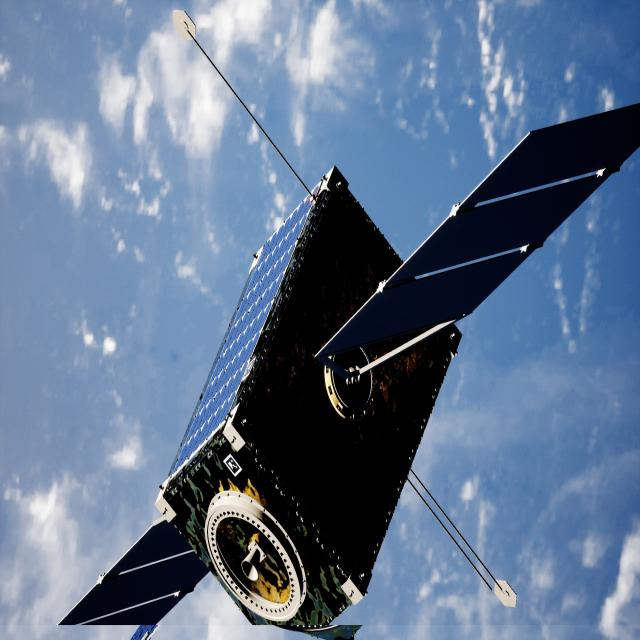satellite: (60, 104, 640, 640)
